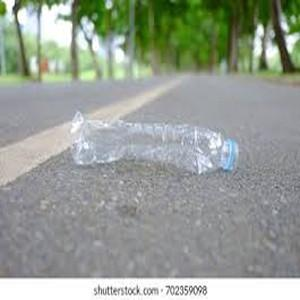Plastic: (66, 109, 245, 177)
